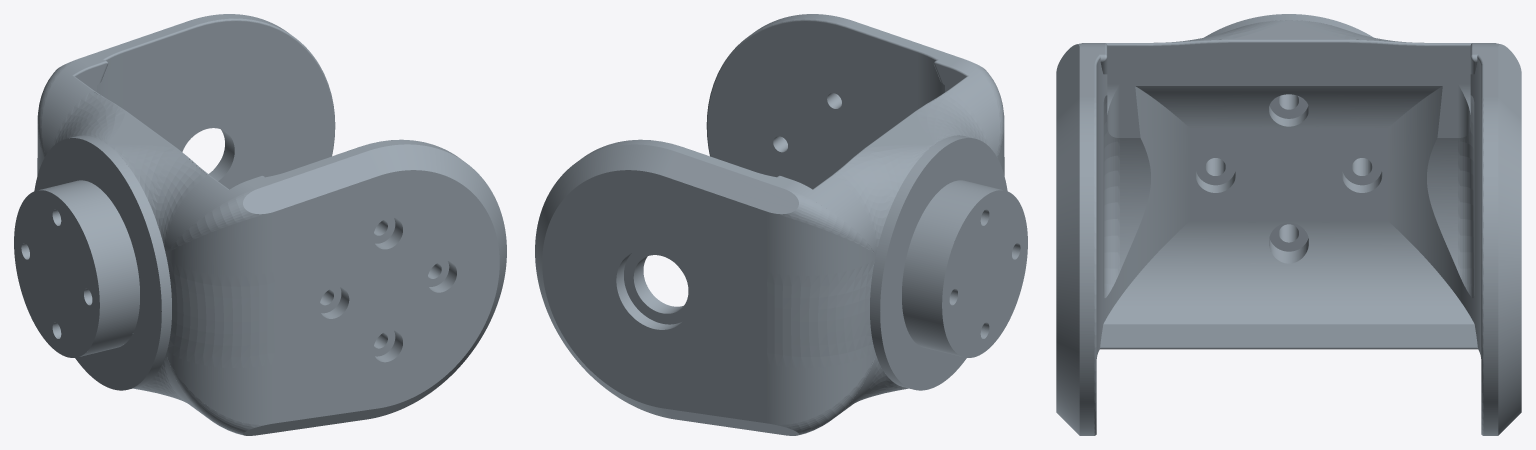
File: FLO-ARM-04 MID ARM CONNECTOR - FLO-ARM-RIGHT-04 MID ARM CONNECTOR.dae
The picture shows the model from 3 angles, left to right: view 1: azimuth 30°, elevation 25°; view 2: azimuth 150°, elevation 25°; view 3: azimuth 270°, elevation 25°; orthographic projection. The views are drawn at different scales.
Parts seen in each view (by area): view 1: 5ca6b6bb11c57816261aa7c1; view 2: 5ca6b6bb11c57816261aa7c1; view 3: 5ca6b6bb11c57816261aa7c1.
Boxes of the visible parts, x1,y1,x2,y2 form: 5ca6b6bb11c57816261aa7c1: (14,14,506,435); 5ca6b6bb11c57816261aa7c1: (535,14,1027,435); 5ca6b6bb11c57816261aa7c1: (1056,14,1521,435).
Size of the model in its own units: 0.0535 by 0.0508 by 0.0381.
